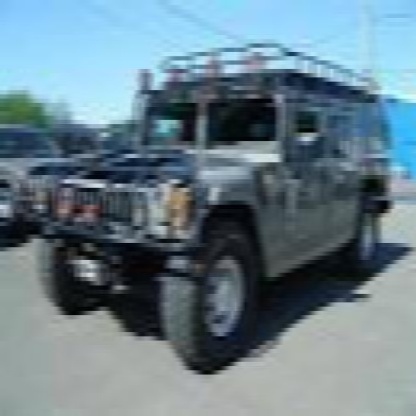Vehicle: (19, 38, 397, 378)
